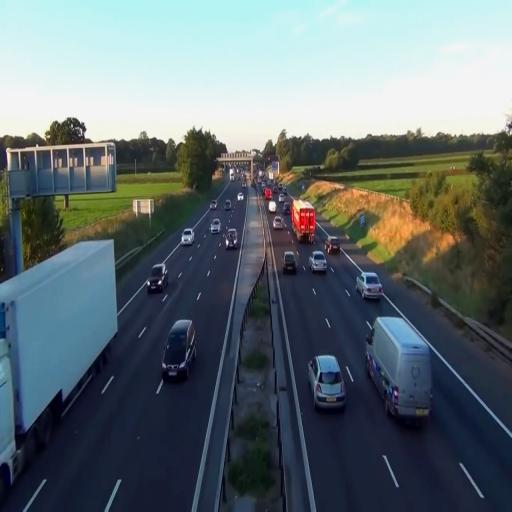vehicle: (366, 314, 434, 426), (161, 319, 197, 381), (308, 354, 346, 412), (291, 200, 316, 242), (357, 271, 383, 301), (147, 264, 167, 294), (310, 251, 327, 274), (282, 250, 298, 274), (224, 226, 239, 250), (181, 229, 195, 245), (210, 218, 221, 234)
